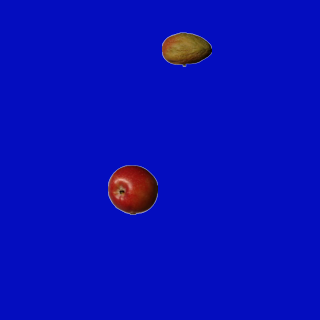Apple Braeburn: (107, 164, 157, 214)
Papaya: (161, 24, 211, 74)
